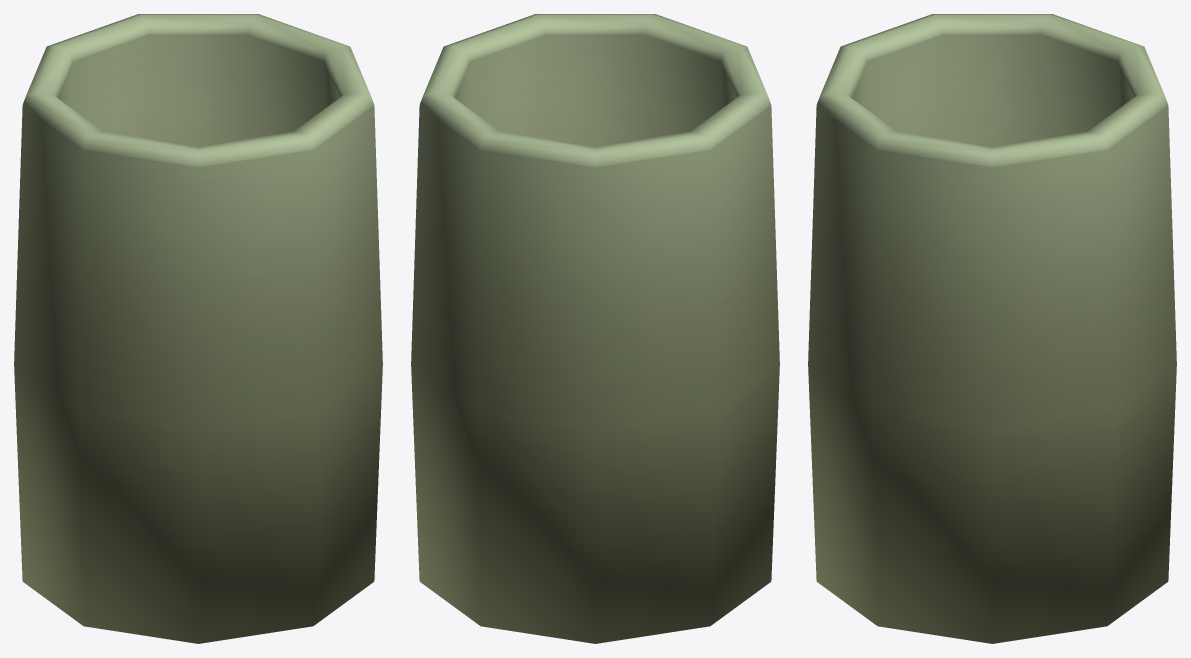
File: Msh_Bote.fbx
The picture shows the model from 3 angles, left to right: view 1: azimuth 30°, elevation 25°; view 2: azimuth 150°, elevation 25°; view 3: azimuth 270°, elevation 25°; orthographic projection.
Visible parts, largest first — view 1: Msh_Bote_Popotes; view 2: Msh_Bote_Popotes; view 3: Msh_Bote_Popotes.
Part boxes in pixels (x1,y1,x2,y2): Msh_Bote_Popotes: (14,14,382,643); Msh_Bote_Popotes: (411,14,779,643); Msh_Bote_Popotes: (808,14,1176,643).
Size of the model in its own units: 32.21 by 47.7 by 32.71.
